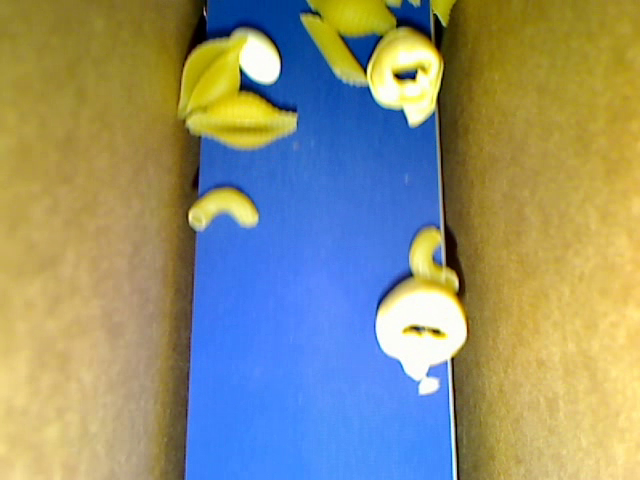elbow: (408, 224, 458, 295), (188, 187, 260, 231)
penne: (300, 14, 368, 88)
shell: (186, 91, 297, 150), (176, 29, 246, 118), (306, 1, 397, 40)
tortellini: (375, 276, 466, 378), (367, 26, 445, 125)
